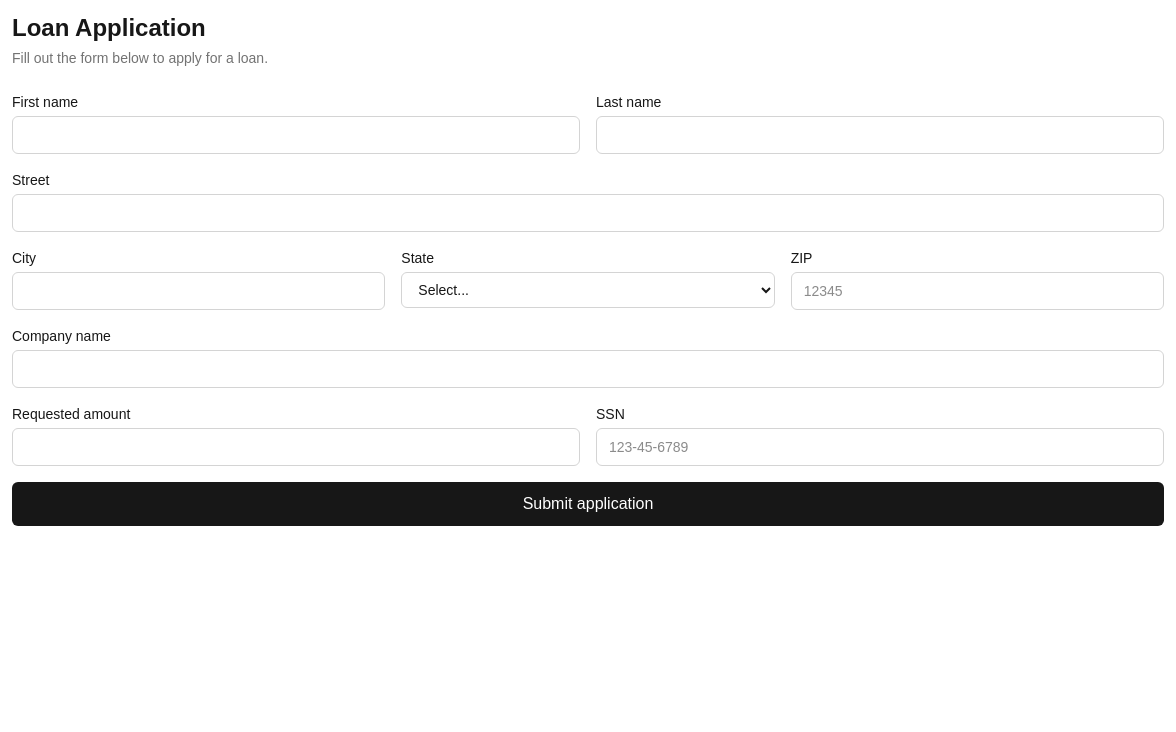
Test: LoanApplicationForm › formats the SSN with dashes while typing
Type "123456789" into the field labelled "SSN" at (880, 447), box [596,428,1164,466]
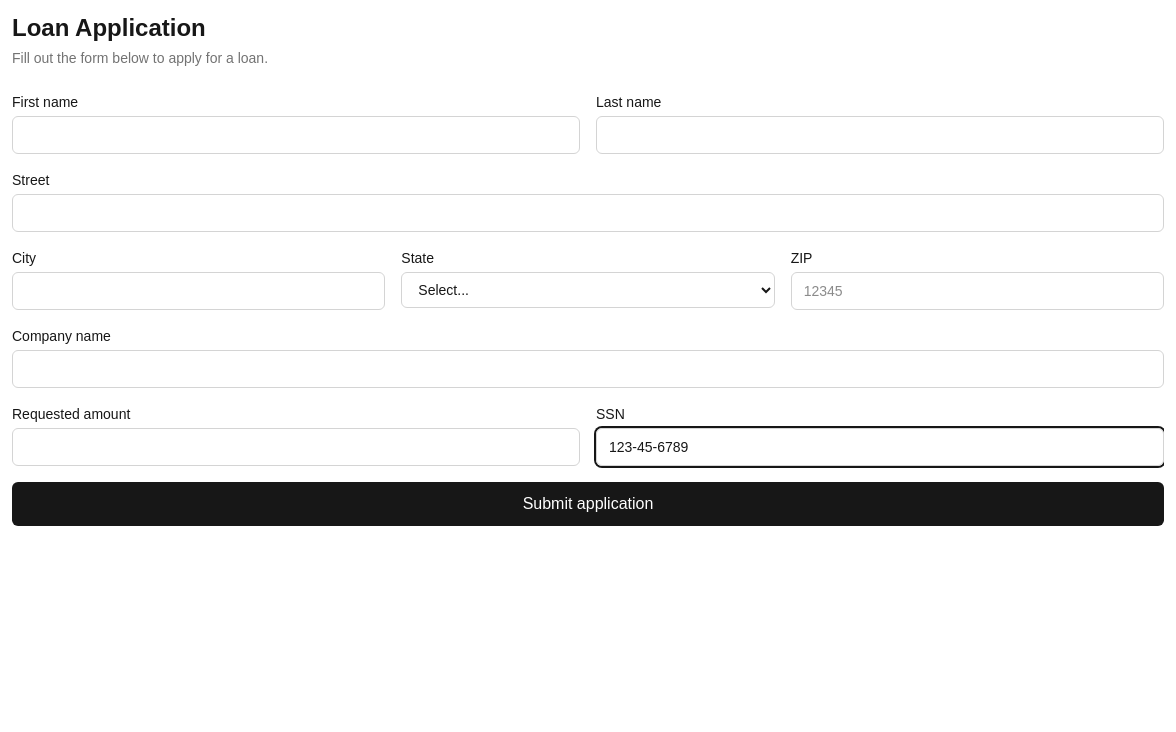
Expected: the field labelled "SSN" holds "123-45-6789", [596,428,1164,466]
